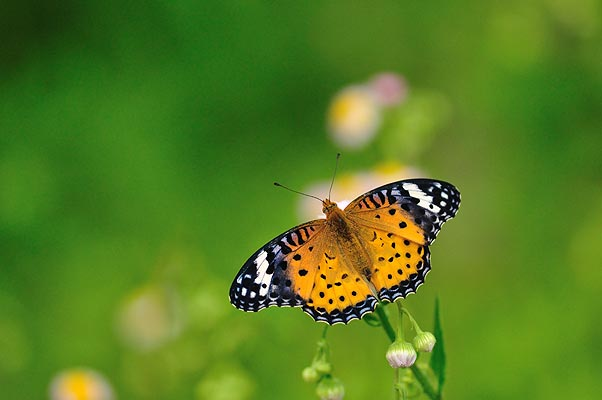Argyreus hyperbius: (223, 151, 461, 327)
butterfly: (225, 153, 463, 329)
